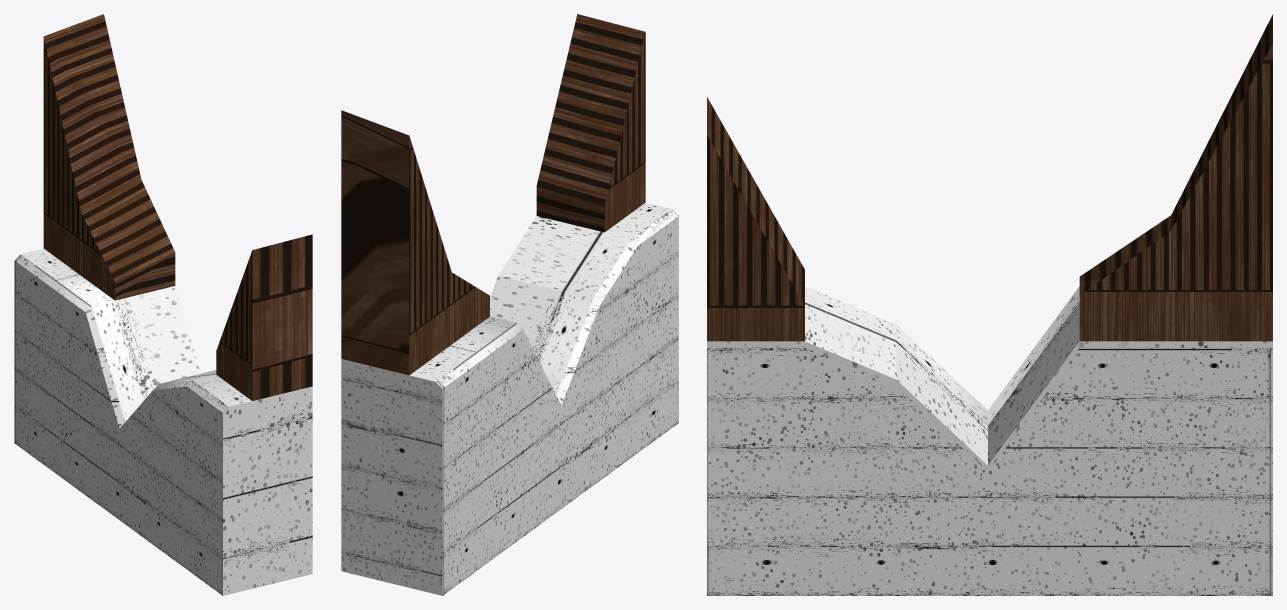
The model's file is Wall_Spacer_Cardinal_Front_01_Damaged.fbx.
The picture shows the model from 3 angles, left to right: view 1: azimuth 30°, elevation 25°; view 2: azimuth 150°, elevation 25°; view 3: azimuth 270°, elevation 25°; orthographic projection. The views are drawn at different scales.
Parts seen in each view (by area): view 1: Wall_Spacer_Cardinal_Front_01_Damaged; view 2: Wall_Spacer_Cardinal_Front_01_Damaged; view 3: Wall_Spacer_Cardinal_Front_01_Damaged.
Boxes of the visible parts, x1,y1,x2,y2 form: Wall_Spacer_Cardinal_Front_01_Damaged: (14, 14, 312, 595); Wall_Spacer_Cardinal_Front_01_Damaged: (341, 14, 678, 595); Wall_Spacer_Cardinal_Front_01_Damaged: (707, 14, 1272, 595).
Size of the model in its own units: 0.25 by 1.09 by 1.01.
